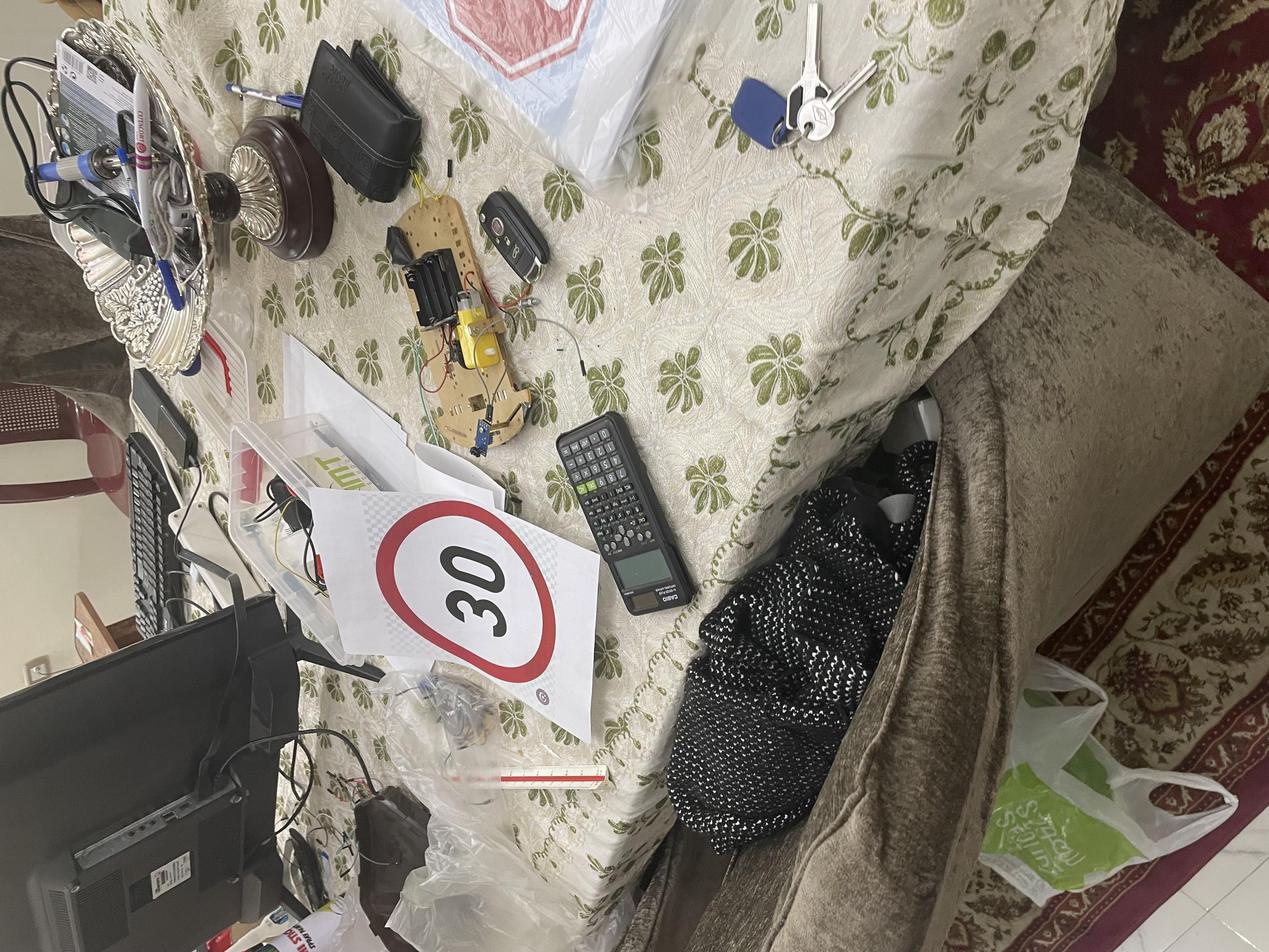30-speed: (355, 277, 609, 419)
